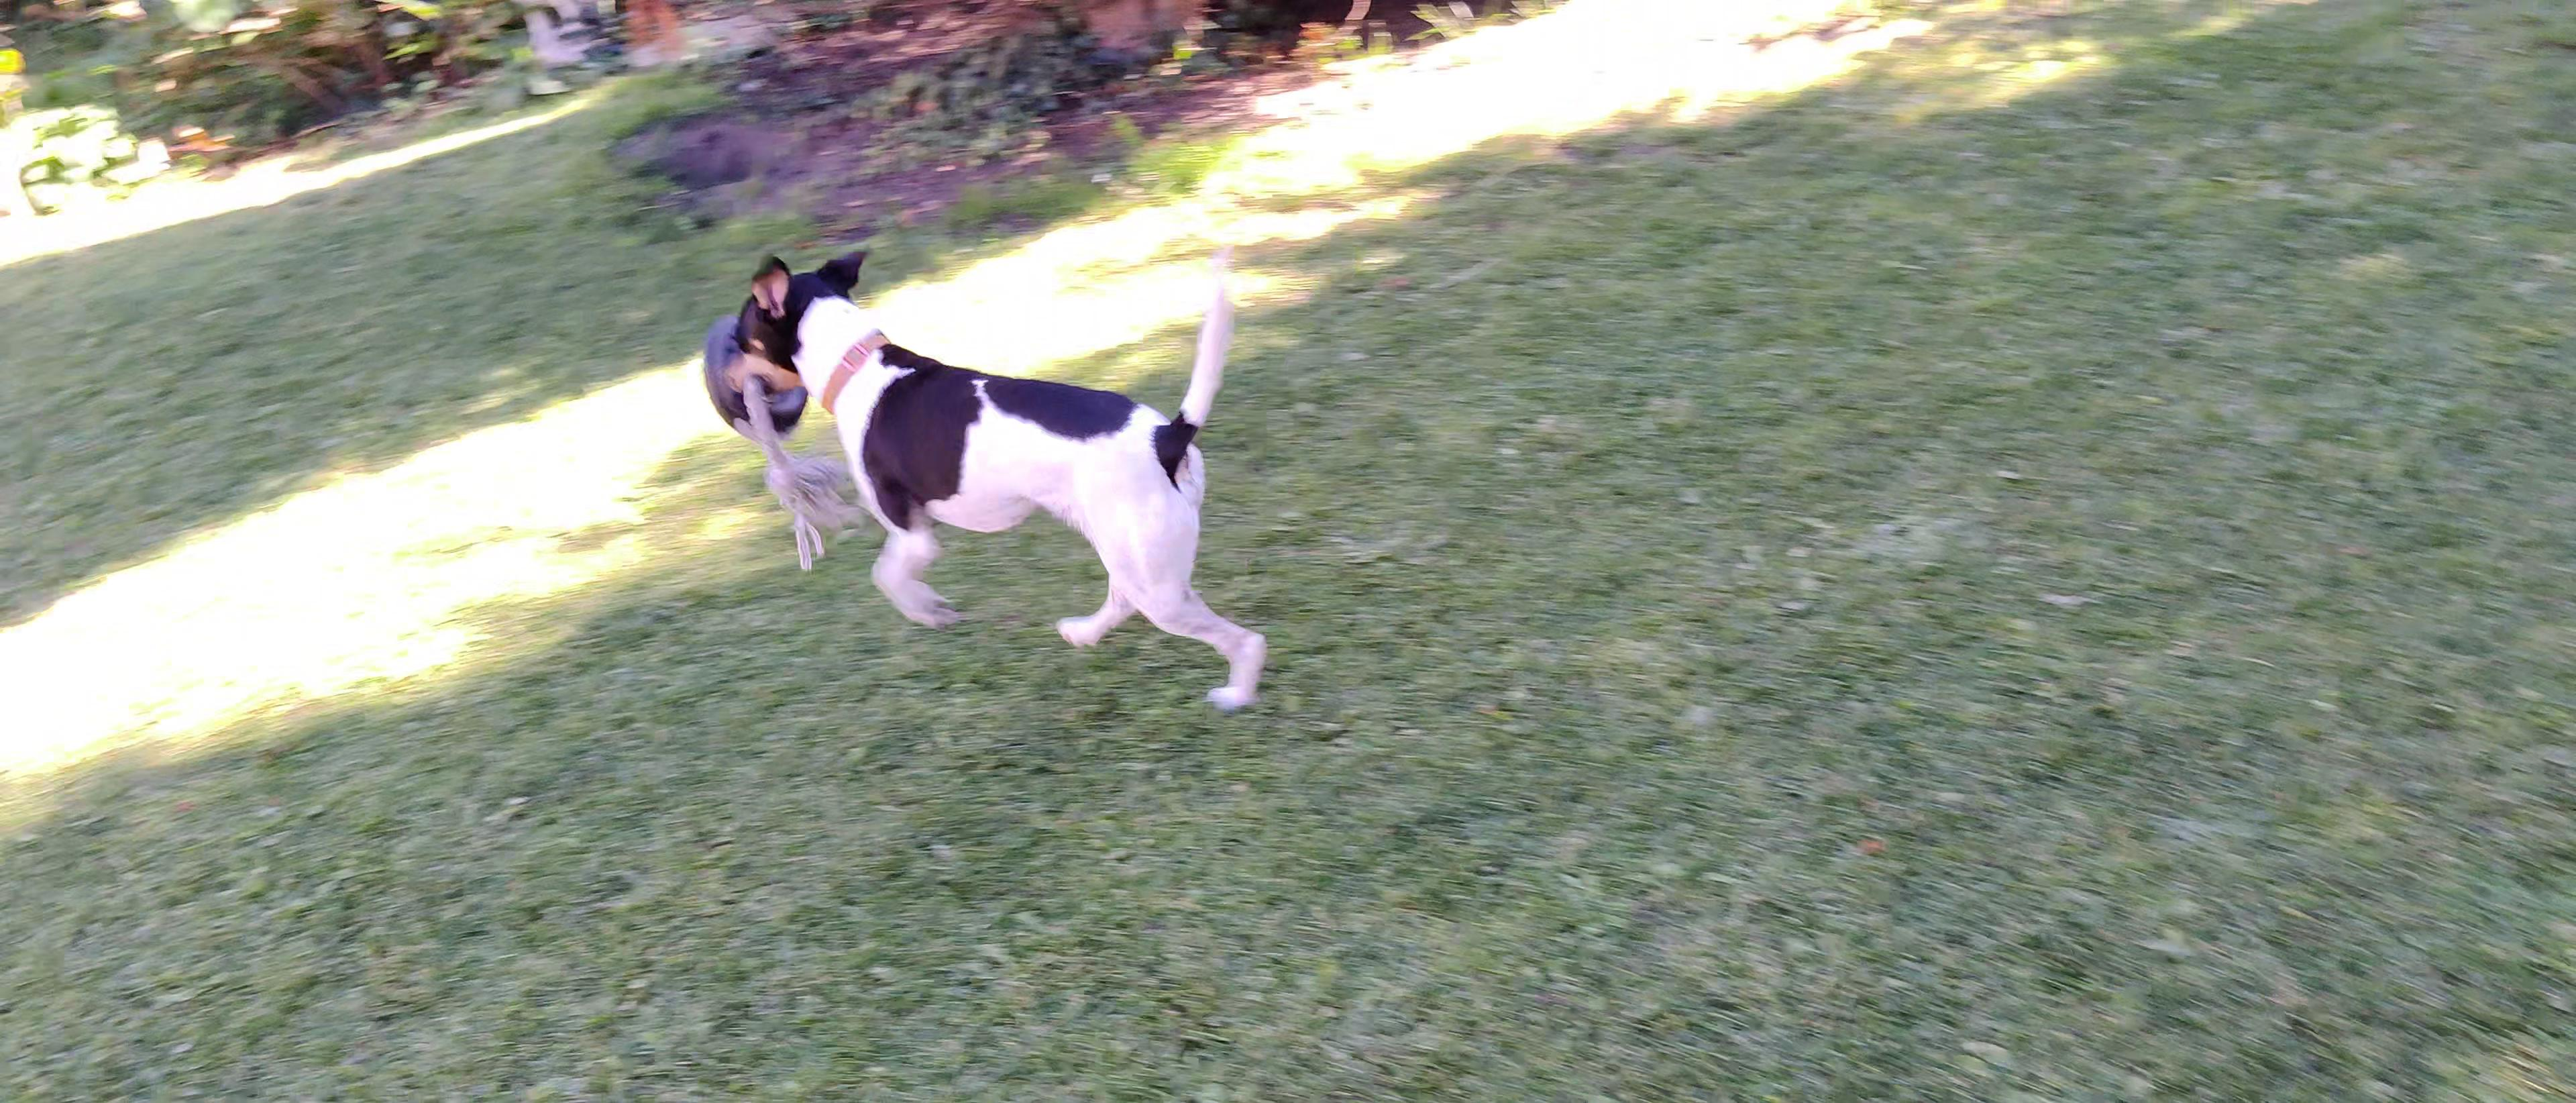Dog: (723, 232, 1281, 713)
